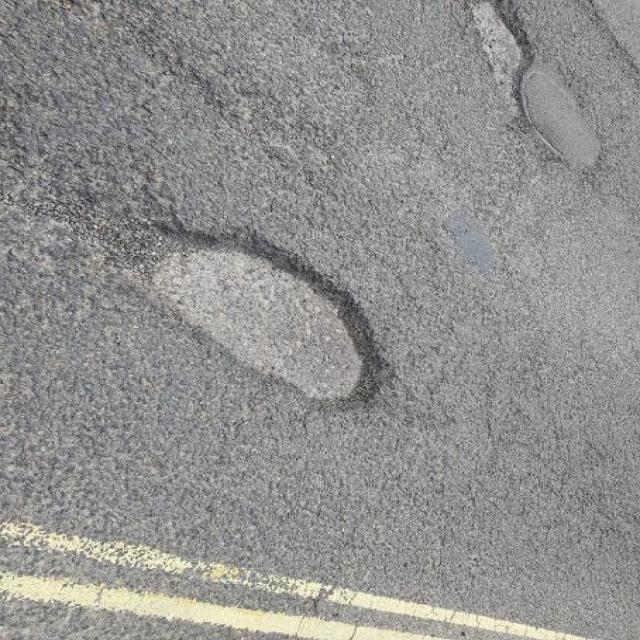pothole: (101, 208, 398, 410), (454, 0, 542, 92)
